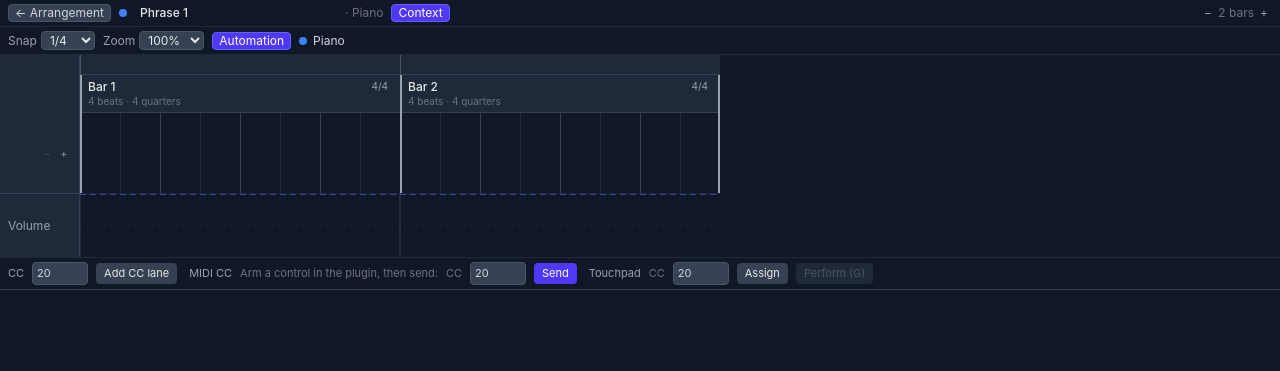
Test case: ChordTimeline MIDI CC lanes › hides the whole stack, panel and all, when automation is toggled off
Click the button "Send": (555, 274) [534,263,577,284]
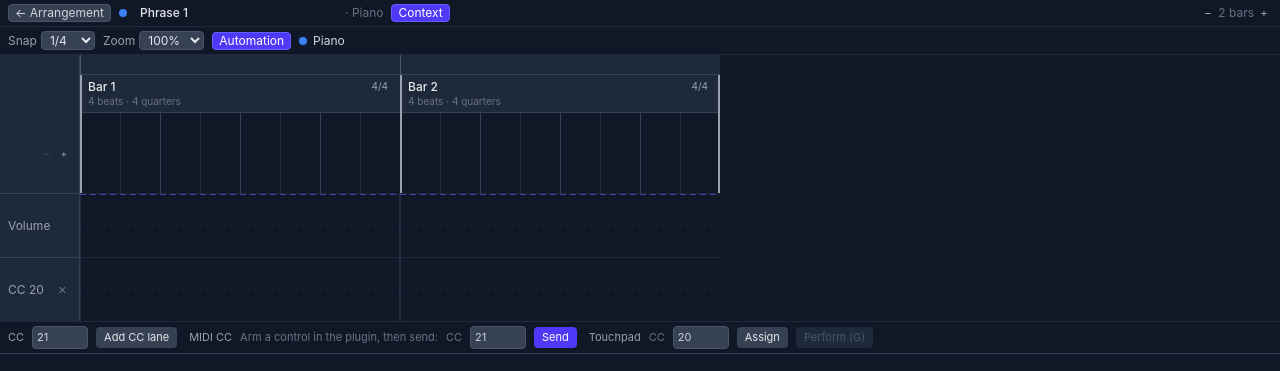
Click the button with aria-label "Automation lanes": (252, 40) [212,32,291,50]
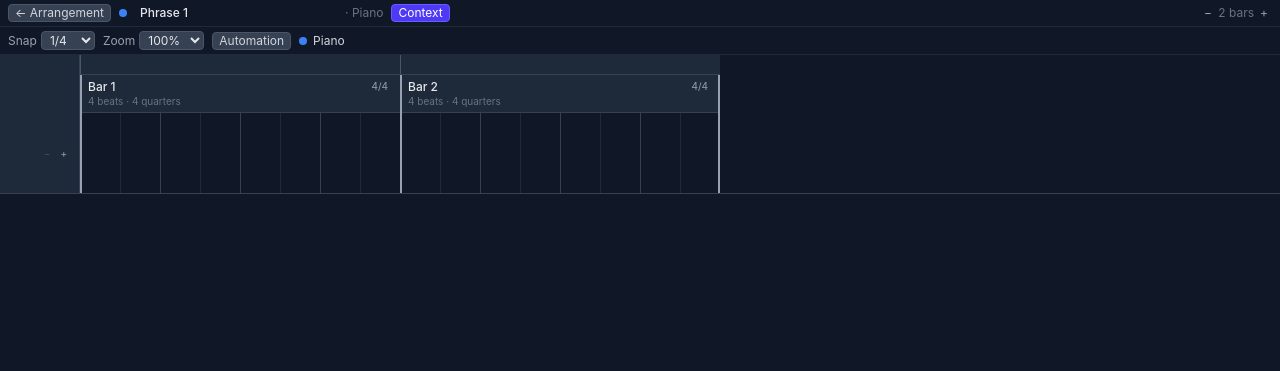
Expected: no elements with test id "automation-lane" are shown
